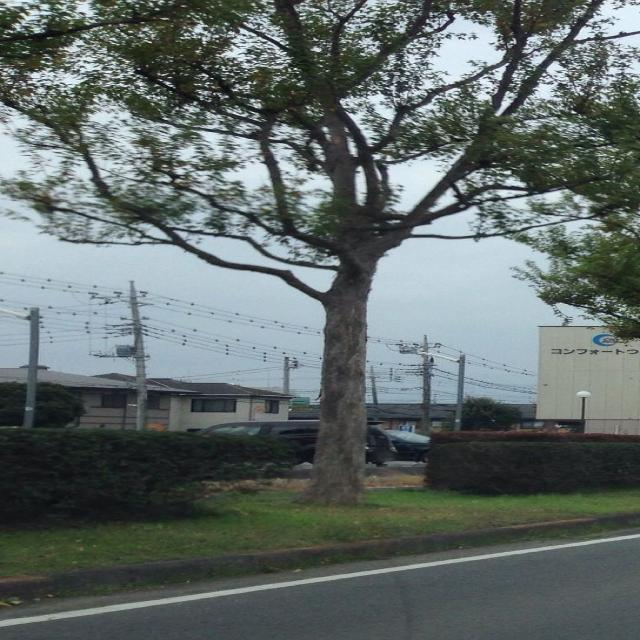maple: (0, 0, 640, 507)
